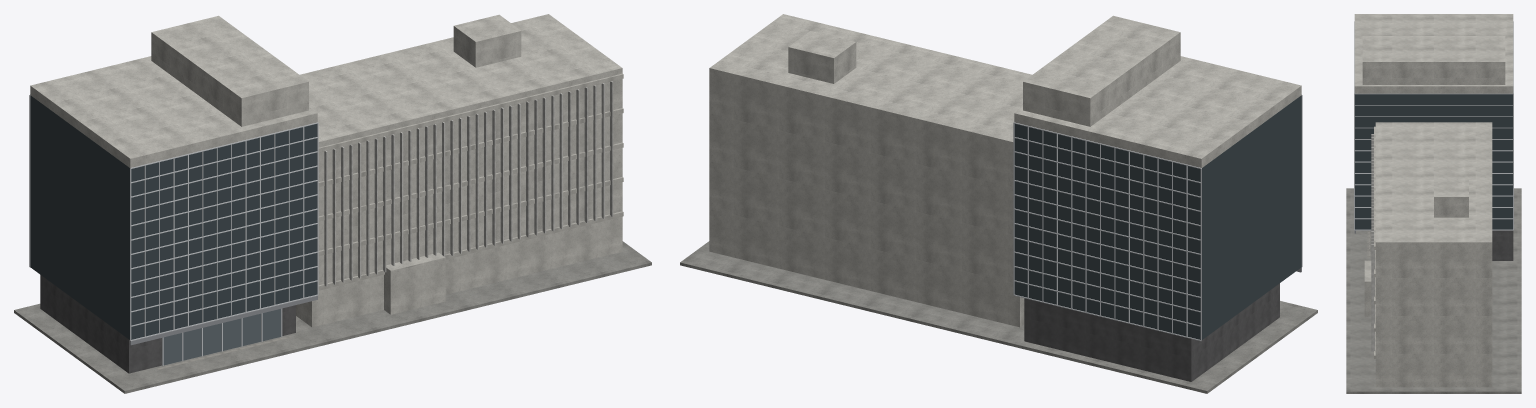
The model's file is main-block.glb.
3 renders of one model, left to right at view 1: azimuth 30°, elevation 25°; view 2: azimuth 150°, elevation 25°; view 3: azimuth 270°, elevation 25°, orthographic. The views are drawn at different scales.
Parts seen in each view (by area): view 1: main_block_glass_curtainwall, main_block_parapet, main_block_fin_wing, main_block_fins, main_block_podium, main_block_mullions, main_block_floor_bands, main_block_tower_base, main_block_entrance_glazing, main_block_roof_plant, main_block_slab_fascia; view 2: main_block_fin_wing, main_block_glass_curtainwall, main_block_parapet, main_block_podium, main_block_tower_base, main_block_mullions, main_block_roof_plant; view 3: main_block_parapet, main_block_fin_wing, main_block_podium, main_block_glass_curtainwall, main_block_mullions, main_block_roof_plant, main_block_fins, main_block_tower_base, main_block_floor_bands.
Boxes of the visible parts, box(x1,y1,x2,y2) form: main_block_glass_curtainwall: box(30, 95, 317, 339); main_block_parapet: box(30, 14, 622, 167); main_block_fin_wing: box(296, 79, 622, 327); main_block_fins: box(324, 81, 613, 286); main_block_podium: box(14, 241, 651, 393); main_block_mullions: box(29, 94, 318, 365); main_block_floor_bands: box(318, 73, 623, 290); main_block_tower_base: box(40, 275, 295, 373); main_block_entrance_glazing: box(163, 309, 280, 365); main_block_roof_plant: box(453, 14, 521, 67); main_block_slab_fascia: box(129, 295, 317, 345); main_block_fin_wing: box(709, 75, 1024, 327); main_block_glass_curtainwall: box(1014, 95, 1301, 339); main_block_parapet: box(709, 14, 1301, 167); main_block_podium: box(680, 241, 1317, 393); main_block_tower_base: box(1024, 283, 1279, 381); main_block_mullions: box(1013, 94, 1302, 341); main_block_roof_plant: box(788, 31, 856, 83); main_block_parapet: box(1354, 14, 1513, 248); main_block_fin_wing: box(1364, 248, 1492, 387); main_block_podium: box(1346, 188, 1521, 393); main_block_glass_curtainwall: box(1355, 94, 1512, 229); main_block_mullions: box(1354, 21, 1513, 230); main_block_roof_plant: box(1434, 179, 1468, 217); main_block_fins: box(1371, 134, 1374, 351); main_block_tower_base: box(1492, 230, 1513, 260); main_block_floor_bands: box(1374, 126, 1376, 358).
Size of the model in its own units: 57.7 by 27.13 by 21.
Materials: 11 (6 with a texture image).
